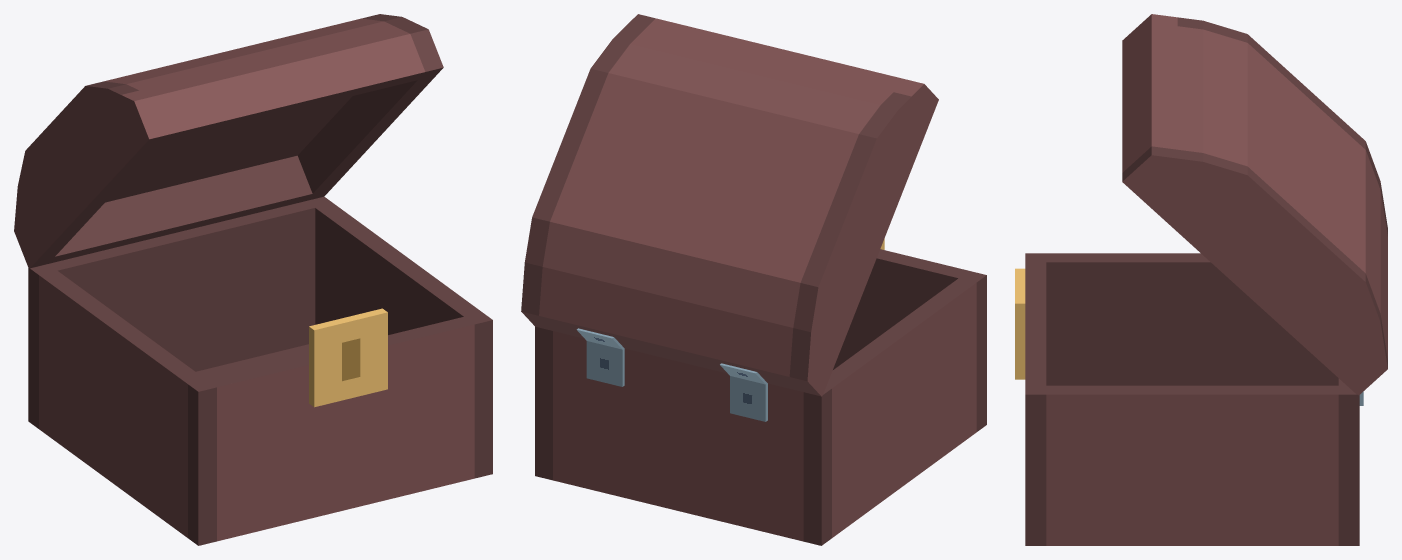
The model's file is treasure-chest.glb.
The picture shows the model from 3 angles, left to right: view 1: azimuth 30°, elevation 25°; view 2: azimuth 150°, elevation 25°; view 3: azimuth 270°, elevation 25°; orthographic projection. The views are drawn at different scales.
Parts seen in each view (by area): view 1: cube_4, cube_3, cube_5; view 2: cube_3, cube_4, cube_1, cube_0; view 3: cube_4, cube_3, cube_5.
Part boxes in pixels (x1,y1,x2,y2): cube_4: [28, 196, 492, 545]; cube_3: [14, 14, 443, 268]; cube_5: [309, 308, 387, 407]; cube_3: [521, 14, 938, 396]; cube_4: [535, 249, 986, 545]; cube_1: [576, 328, 624, 386]; cube_0: [720, 363, 767, 421]; cube_4: [1025, 253, 1359, 545]; cube_3: [1122, 14, 1387, 395]; cube_5: [1015, 268, 1025, 379].
Size of the model in its own units: 0.5 by 0.6453 by 0.558.
2 materials, 2 textured.
